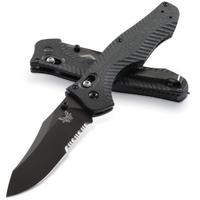knife: (5, 2, 169, 198)
